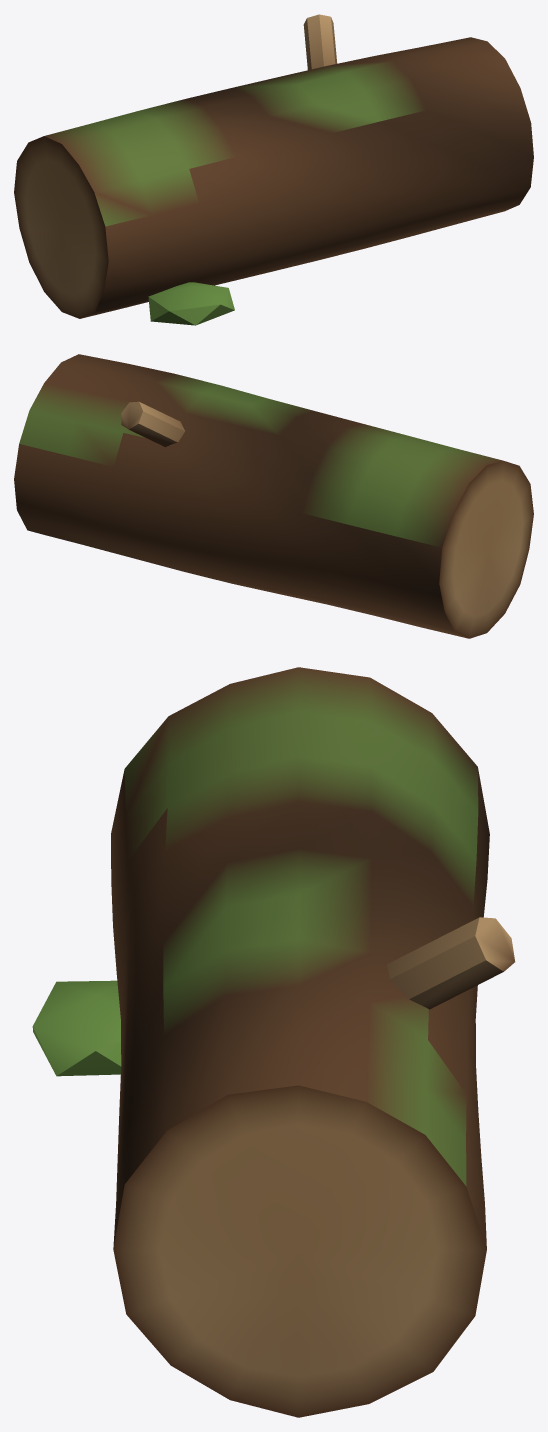
File: log_seat.glb
The picture shows the model from 3 angles, top to bottom: view 1: azimuth 30°, elevation 25°; view 2: azimuth 150°, elevation 25°; view 3: azimuth 270°, elevation 25°; orthographic projection. The views are drawn at different scales.
Parts seen in each view (by area): view 1: log_seat; view 2: log_seat; view 3: log_seat.
Boxes of the visible parts, <box> form: log_seat: <box>14,14,533,325</box>; log_seat: <box>14,354,533,638</box>; log_seat: <box>32,667,515,1417</box>.
Bounding box in the file's own units: 1.61 × 0.6877 × 0.7851.
